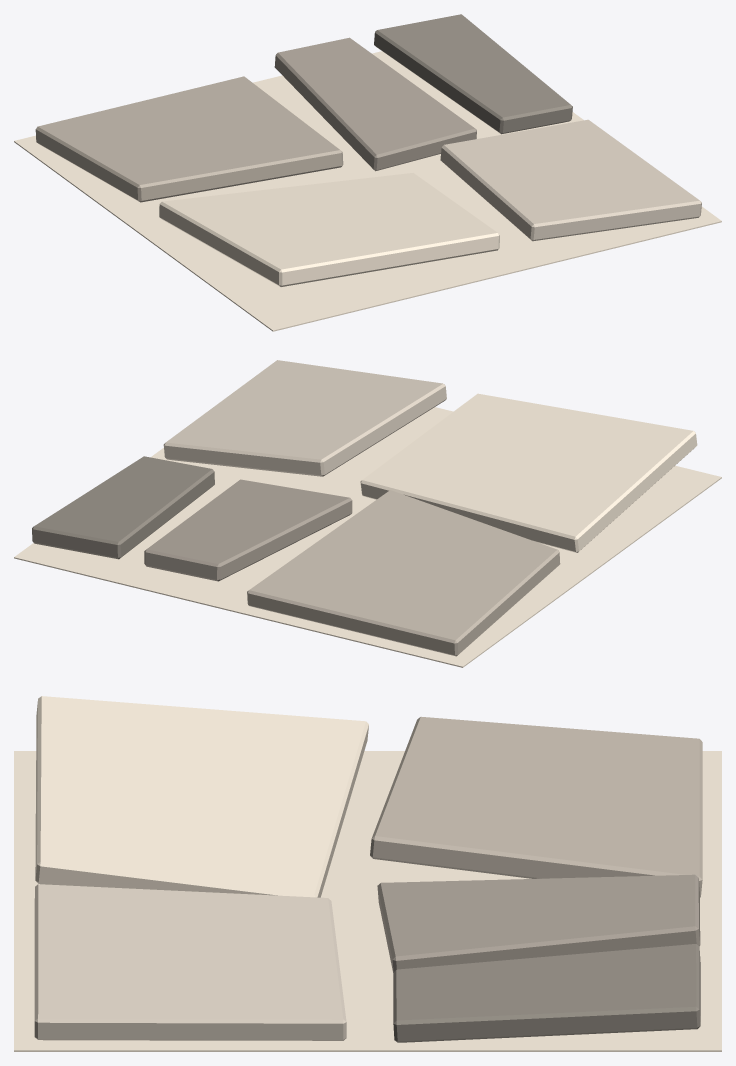
The model's file is SM_VKI_Overlay_CrackedFloor.fbx.
3 renders of one model, top to bottom at view 1: azimuth 30°, elevation 25°; view 2: azimuth 150°, elevation 25°; view 3: azimuth 270°, elevation 25°, orthographic. The views are drawn at different scales.
Parts seen in each view (by area): view 1: SM_VKI_Overlay_CrackedFloor.001; view 2: SM_VKI_Overlay_CrackedFloor.001; view 3: SM_VKI_Overlay_CrackedFloor.001.
Part boxes in pixels (x1,y1,x2,y2): SM_VKI_Overlay_CrackedFloor.001: [14, 14, 721, 331]; SM_VKI_Overlay_CrackedFloor.001: [14, 360, 721, 667]; SM_VKI_Overlay_CrackedFloor.001: [14, 696, 721, 1051].
Size of the model in its own units: 1.28 by 0.1372 by 1.28.
